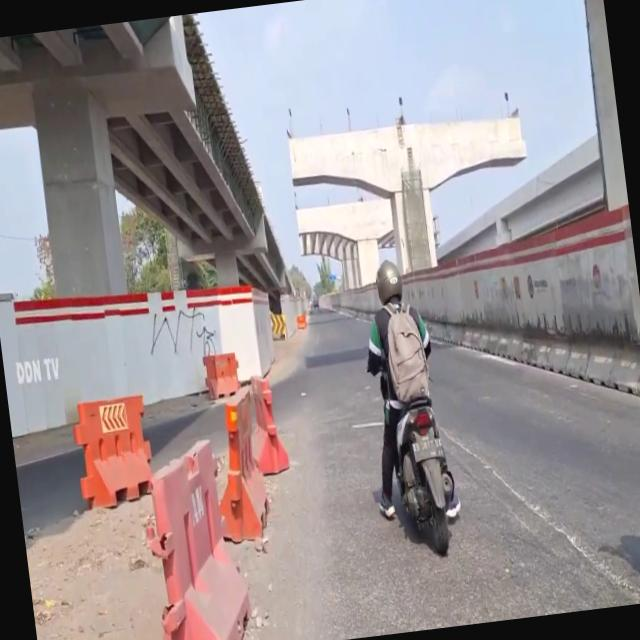WithHelmet: (348, 254, 462, 527)
